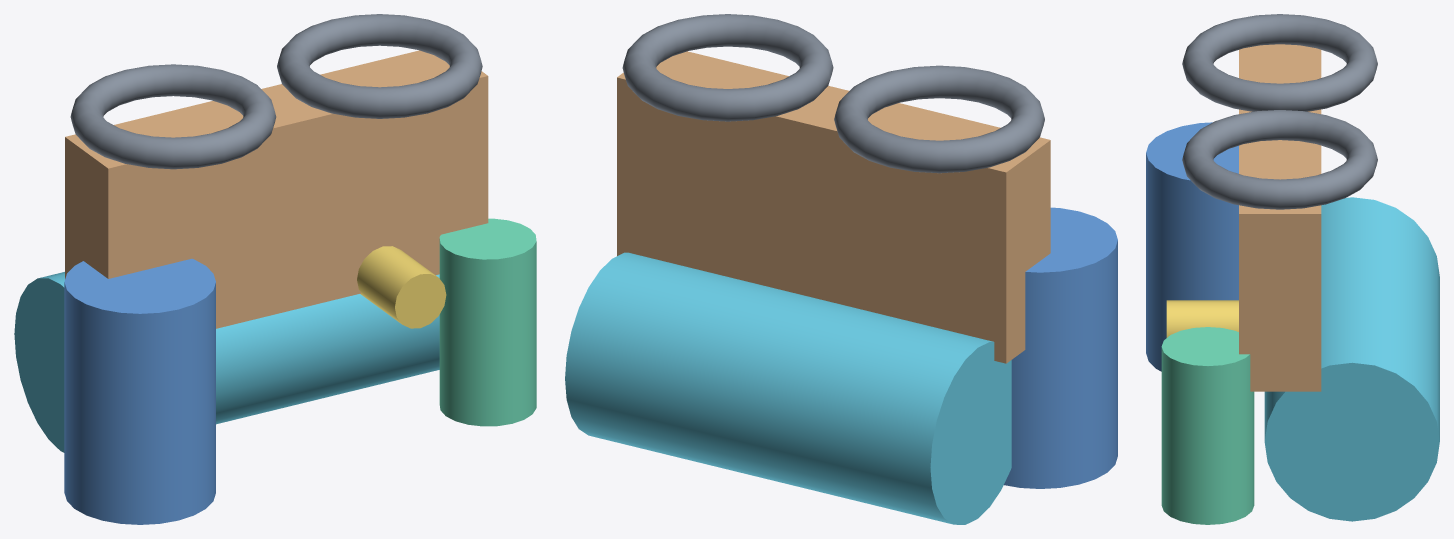
The model's file is hvac-chiller.glb.
3 renders of one model, left to right at view 1: azimuth 30°, elevation 25°; view 2: azimuth 150°, elevation 25°; view 3: azimuth 270°, elevation 25°, orthographic. The views are drawn at different scales.
Parts seen in each view (by area): view 1: part_condenser_coil, part_scroll_compressor, part_evaporator_shell, part_liquid_receiver, part_axial_fan_01, part_axial_fan_02, part_expansion_valve_txv; view 2: part_evaporator_shell, part_condenser_coil, part_scroll_compressor, part_axial_fan_01, part_axial_fan_02; view 3: part_evaporator_shell, part_condenser_coil, part_liquid_receiver, part_scroll_compressor, part_axial_fan_02, part_axial_fan_01, part_expansion_valve_txv.
Part boxes in pixels (x1,y1,x2,y2): part_condenser_coil: (65,50,488,328); part_scroll_compressor: (64,258,215,524); part_evaporator_shell: (14,272,439,452); part_liquid_receiver: (439,218,536,426); part_axial_fan_01: (70,64,276,169); part_axial_fan_02: (277,14,482,118); part_expansion_valve_txv: (357,246,446,328); part_evaporator_shell: (565,252,1011,524); part_condenser_coil: (617,51,1050,363); part_scroll_compressor: (1004,207,1117,488); part_axial_fan_01: (834,65,1044,173); part_axial_fan_02: (622,14,833,121); part_evaporator_shell: (1264,197,1439,521); part_condenser_coil: (1239,44,1321,391); part_liquid_receiver: (1161,327,1254,524); part_scroll_compressor: (1146,122,1238,371); part_axial_fan_02: (1182,110,1377,209); part_axial_fan_01: (1182,14,1377,111); part_expansion_valve_txv: (1166,300,1238,337).
Size of the model in its own units: 1.92 by 1.46 by 1.14.
